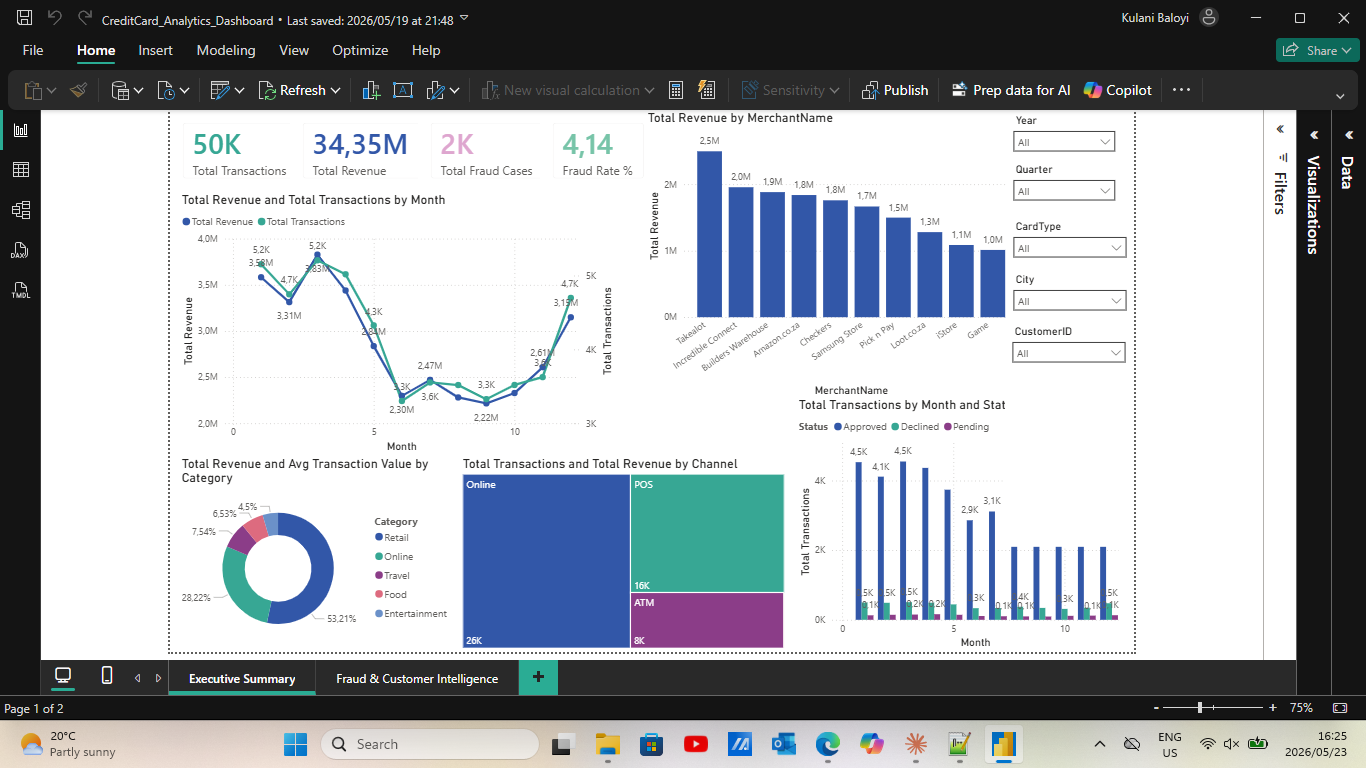

What the dashboard file says about the page in this screenshot:
{"tool":"powerbi","page":{"name":"Executive Summary","canvas":[1280,720],"ordinal":0},"visuals":[{"type":"cardVisual","fields":{"Data":["dimension Fact_Transactions.Total Transactions"]},"box":[0,0,186,108.9],"z":0},{"type":"cardVisual","fields":{"Data":["dimension Fact_Transactions.Total Revenue"]},"box":[159.4,0,207.2,108.9],"z":1000},{"type":"cardVisual","fields":{"Data":["dimension Fact_Transactions.Total Fraud Cases"]},"box":[329.4,0,190,108.9],"z":2000},{"type":"cardVisual","fields":{"Data":["dimension Fact_Transactions.Fraud Rate %"]},"box":[491.5,0,155.4,108.9],"z":3000},{"type":"lineChart","fields":{"Category":["dimension Dim_Date.Month"],"Y":["dimension Fact_Transactions.Total Revenue"],"Y2":["dimension Fact_Transactions.Total Transactions"]},"box":[10.6,108.9,581.8,350.7],"z":4000},{"type":"donutChart","fields":{"Category":["dimension Dim_Merchant.Category"],"Y":["dimension Fact_Transactions.Total Revenue"]},"box":[10.6,459.6,372,260.4],"z":5000},{"type":"clusteredColumnChart","fields":{"Y":["dimension Fact_Transactions.Total Revenue"],"Category":["dimension Dim_Merchant.MerchantName"]},"box":[629.7,0,502.1,385.2],"z":6000},{"type":"clusteredColumnChart","fields":{"Category":["dimension Dim_Date.Month"],"Y":["dimension Fact_Transactions.Total Transactions"],"Series":["dimension Fact_Transactions.Status"]},"box":[829.8,381.3,435.1,339.3],"z":7000},{"type":"treemap","fields":{"Group":["dimension Fact_Transactions.Channel"],"Values":["dimension Fact_Transactions.Total Transactions"]},"box":[383.9,459.6,437,260.4],"z":8000},{"type":"slicer","fields":{"Values":["dimension Dim_Date.Year"]},"box":[1110.3,0,154.5,359.5],"z":9000},{"type":"slicer","fields":{"Values":["dimension Dim_Date.Quarter"]},"box":[1110.3,65.5,154.5,294],"z":10000},{"type":"slicer","fields":{"Values":["dimension Dim_Card.CardType"]},"box":[1110.3,141.1,169.7,337.6],"z":11000},{"type":"slicer","fields":{"Values":["dimension Dim_Customer.City"]},"box":[1110.3,211.7,169.7,337.6],"z":12000},{"type":"slicer","fields":{"Values":["dimension Dim_Customer.CustomerID"]},"box":[1109.8,280.3,170.2,300.3],"z":12001}]}

Visuals, with their boxes on the page's 1280x720 design canvas (x1, y1, x2, y2). These are canvas units, not pixel positions in the 1366x768 screenshot, which may show the page scaled, cropped or inside an application window:
cardVisual - dimension Fact_Transactions.Total Transactions: [x1=0, y1=0, x2=186, y2=109]
cardVisual - dimension Fact_Transactions.Total Revenue: [x1=159, y1=0, x2=367, y2=109]
cardVisual - dimension Fact_Transactions.Total Fraud Cases: [x1=329, y1=0, x2=519, y2=109]
cardVisual - dimension Fact_Transactions.Fraud Rate %: [x1=492, y1=0, x2=647, y2=109]
lineChart - dimension Dim_Date.Month x dimension Fact_Transactions.Total Revenue: [x1=11, y1=109, x2=592, y2=460]
donutChart - dimension Dim_Merchant.Category x dimension Fact_Transactions.Total Revenue: [x1=11, y1=460, x2=383, y2=720]
clusteredColumnChart - dimension Fact_Transactions.Total Revenue x dimension Dim_Merchant.MerchantName: [x1=630, y1=0, x2=1132, y2=385]
clusteredColumnChart - dimension Dim_Date.Month x dimension Fact_Transactions.Total Transactions: [x1=830, y1=381, x2=1265, y2=721]
treemap - dimension Fact_Transactions.Channel x dimension Fact_Transactions.Total Transactions: [x1=384, y1=460, x2=821, y2=720]
slicer - dimension Dim_Date.Year: [x1=1110, y1=0, x2=1265, y2=360]
slicer - dimension Dim_Date.Quarter: [x1=1110, y1=66, x2=1265, y2=360]
slicer - dimension Dim_Card.CardType: [x1=1110, y1=141, x2=1280, y2=479]
slicer - dimension Dim_Customer.City: [x1=1110, y1=212, x2=1280, y2=549]
slicer - dimension Dim_Customer.CustomerID: [x1=1110, y1=280, x2=1280, y2=581]
